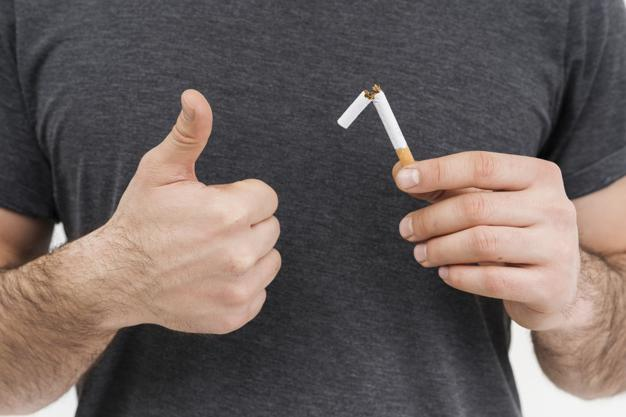thumbsup: (156, 89, 283, 334)
